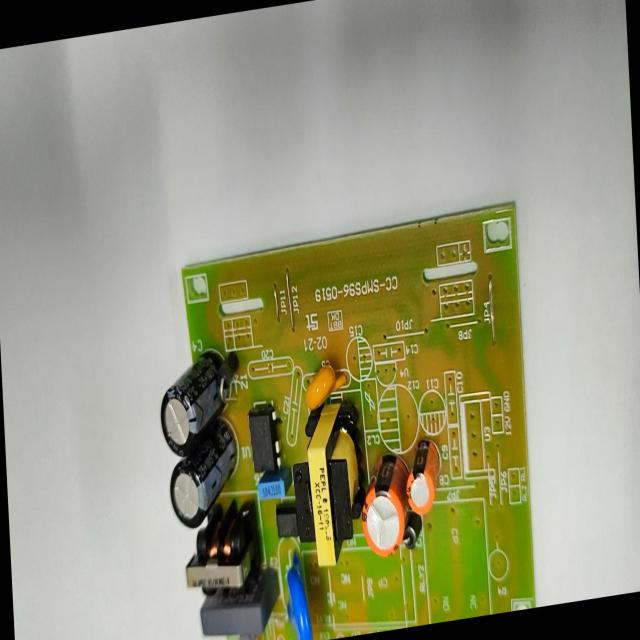Cap1: (358, 446, 407, 564)
Cap2: (404, 434, 440, 520)
Cap3: (165, 423, 240, 535)
Cap4: (155, 348, 232, 460)
MOSFET: (244, 393, 284, 476)
Mov: (275, 542, 316, 639)
Resistor: (226, 631, 259, 639)
Transformer: (300, 394, 361, 574), (178, 508, 259, 600)
